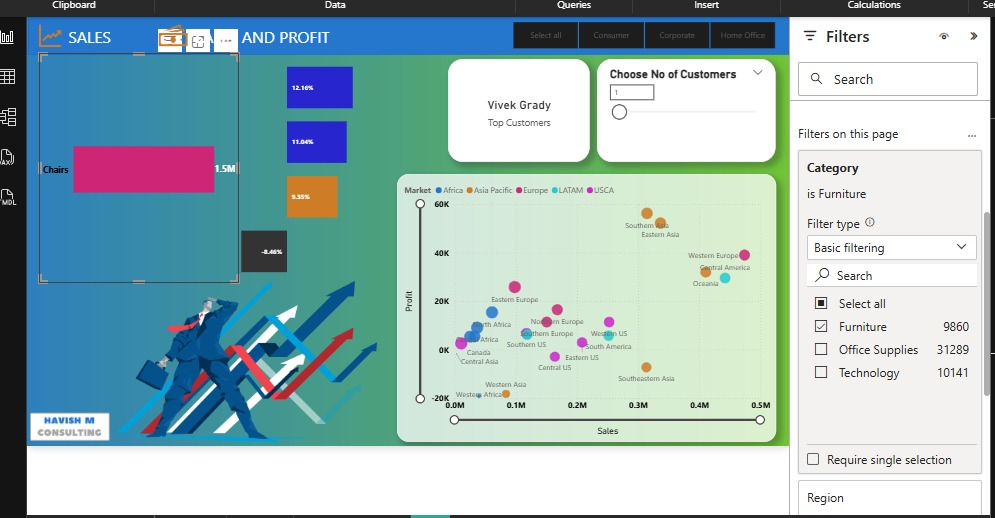

The dashboard page shown, as its layout file describes it:
{"tool":"powerbi","page":{"name":"Sales vs Profit","canvas":[1280,720],"ordinal":2},"visuals":[{"type":"shape","box":[0.9,0,1279.1,63.1],"z":0},{"type":"scatterChart","fields":{"Y":["Sum(Table13.Profit)"],"X":["Sum(Table13.Sales)"],"Category":["Table13.Region"],"Size":["Table13.PM"],"Series":["Table13.Market"]},"box":[678.1,254.5,529.2,133],"z":1000},{"type":"image","box":[0,656.9,143.8,63.1],"z":2000},{"type":"image","box":[136.8,437.6,465.7,282.4],"z":3000},{"type":"barChart","fields":{"Category":["Table13.Sub-Category"],"Y":["Table13.PM"]},"box":[340.9,70.3,336.8,366.7],"z":4000},{"type":"barChart","fields":{"Y":["Sum(Table13.Sales)"],"Category":["Table13.Sub-Category"]},"box":[20.7,59.9,334.7,387.4],"z":5000},{"type":"image","box":[2.7,0,70.3,63.1],"z":6000},{"type":"shape","box":[49.6,0,110,63.1],"z":7000},{"type":"image","box":[210,0,70.3,63.1],"z":8000},{"type":"shape","box":[265,0,259.6,63.1],"z":9000},{"type":"slicer","fields":{"Values":["Table13.Segment"]},"box":[790.5,1.8,489.5,57.7],"z":10000},{"type":"slicer","fields":{"Values":["Table13.Market"]},"box":[678.1,69.4,472.8,157.6],"z":11000},{"type":"tableEx","fields":{"Values":["Table13.Customer Name","Sum(Table13.Sales)","Sum(Table13.Profit)"]},"box":[678.1,438.1,514.7,260.2],"z":11001}]}

Visuals, with their boxes on the page's 1280x720 design canvas (x1, y1, x2, y2). These are canvas units, not pixel positions in the 995x518 screenshot, which may show the page scaled, cropped or inside an application window:
shape: x1=1 y1=0 x2=1280 y2=63
scatterChart - Sum(Table13.Profit) x Sum(Table13.Sales): x1=678 y1=254 x2=1207 y2=388
image: x1=0 y1=657 x2=144 y2=720
image: x1=137 y1=438 x2=602 y2=720
barChart - Table13.Sub-Category x Table13.PM: x1=341 y1=70 x2=678 y2=437
barChart - Sum(Table13.Sales) x Table13.Sub-Category: x1=21 y1=60 x2=355 y2=447
image: x1=3 y1=0 x2=73 y2=63
shape: x1=50 y1=0 x2=160 y2=63
image: x1=210 y1=0 x2=280 y2=63
shape: x1=265 y1=0 x2=525 y2=63
slicer - Table13.Segment: x1=790 y1=2 x2=1280 y2=60
slicer - Table13.Market: x1=678 y1=69 x2=1151 y2=227
tableEx - Table13.Customer Name x Sum(Table13.Sales): x1=678 y1=438 x2=1193 y2=698
